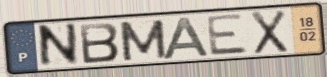A: (160, 15, 213, 60)
B: (77, 21, 122, 66)
E: (204, 12, 251, 58)
M: (117, 18, 170, 63)
N: (38, 21, 81, 71)
X: (249, 8, 290, 57)
